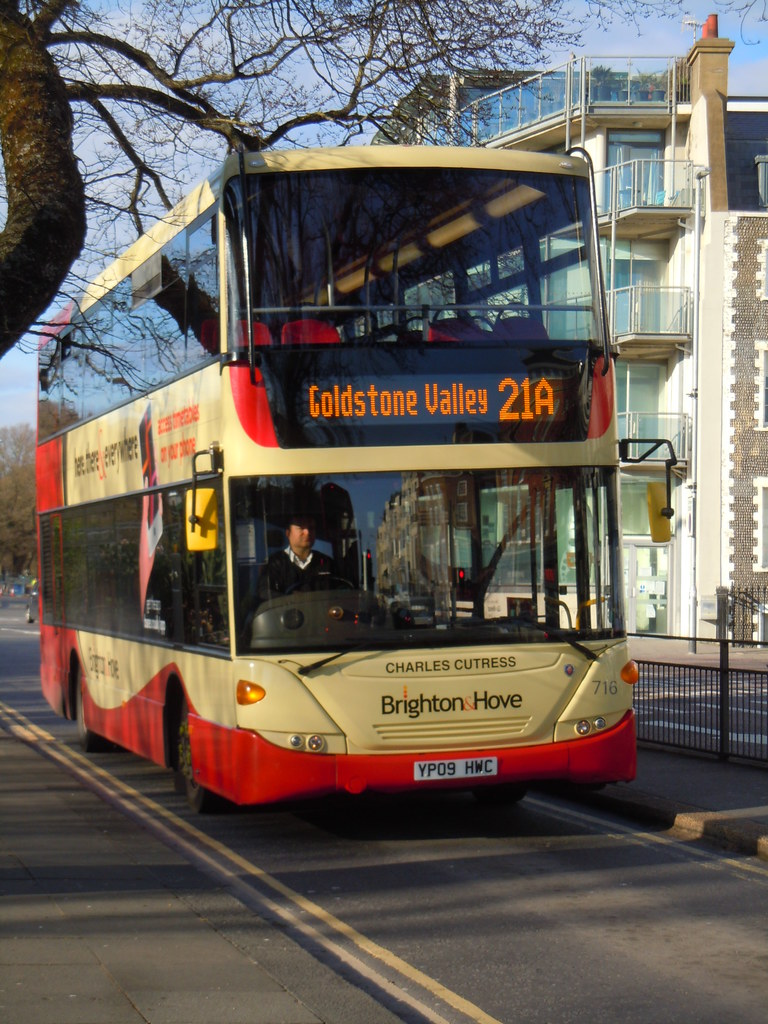Bus: (32, 140, 670, 816)
